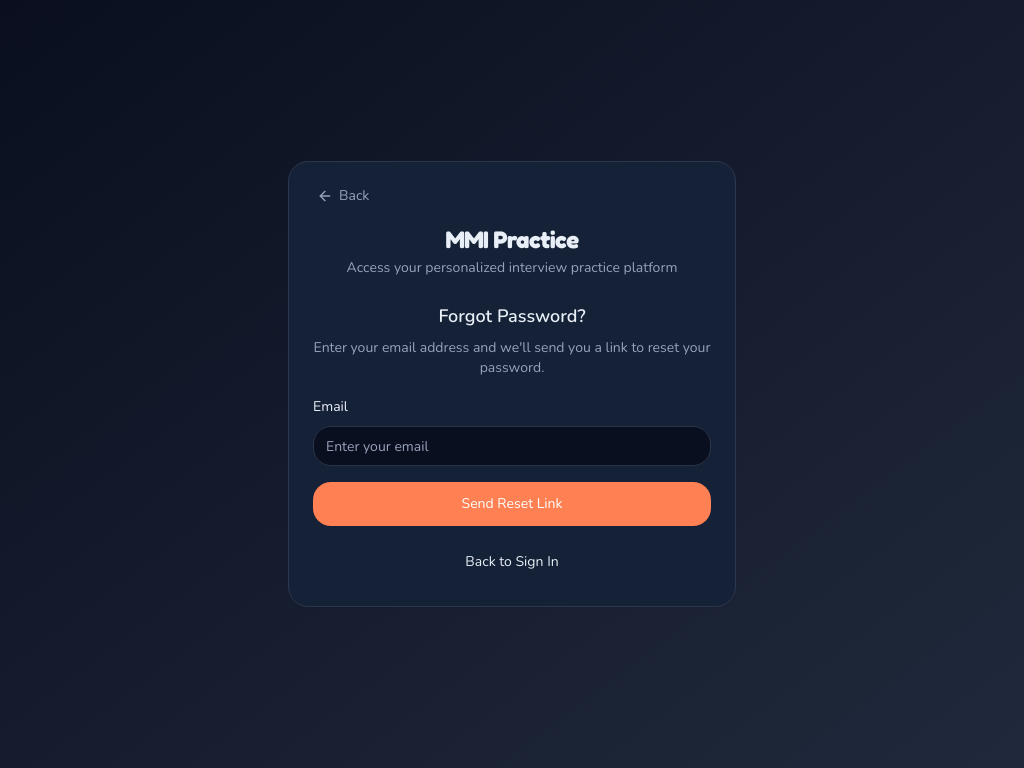
Scenario: Forgot-password email form › shows a persistent, account-neutral confirmation only after acceptance
The width and height of the screenshot is (1024, 768).
Type "qa@example.test" into the field with id "reset-email" at (512, 446), box x1=313 y1=426 x2=711 y2=466
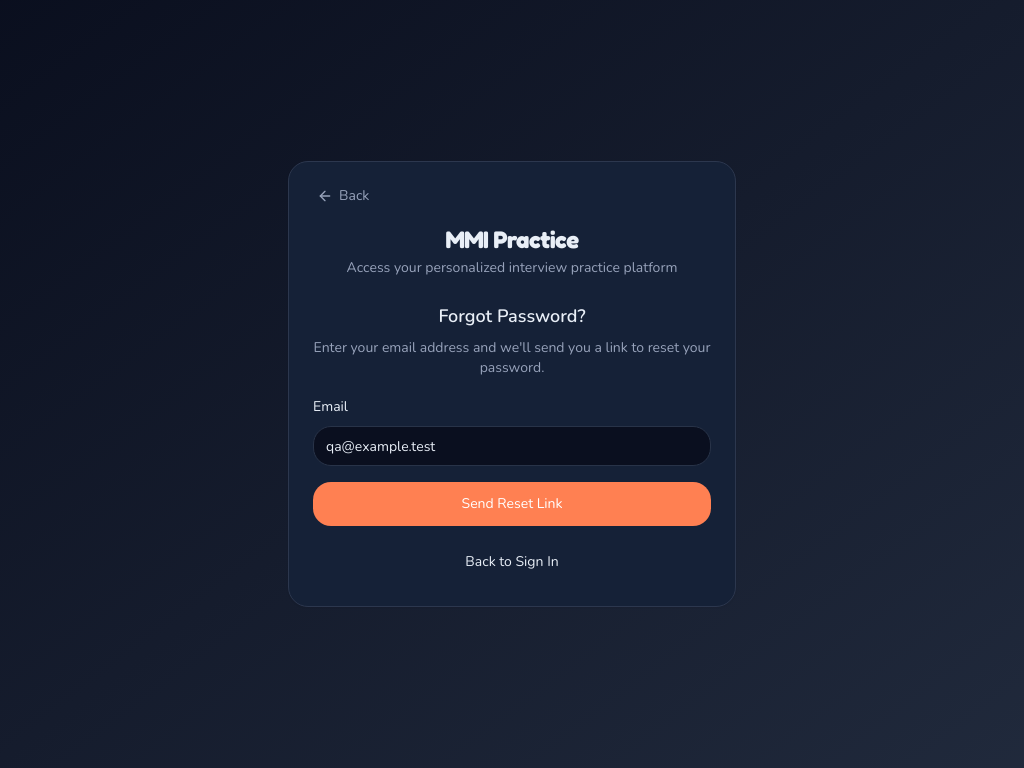
Submit the form, box x1=313 y1=394 x2=711 y2=526
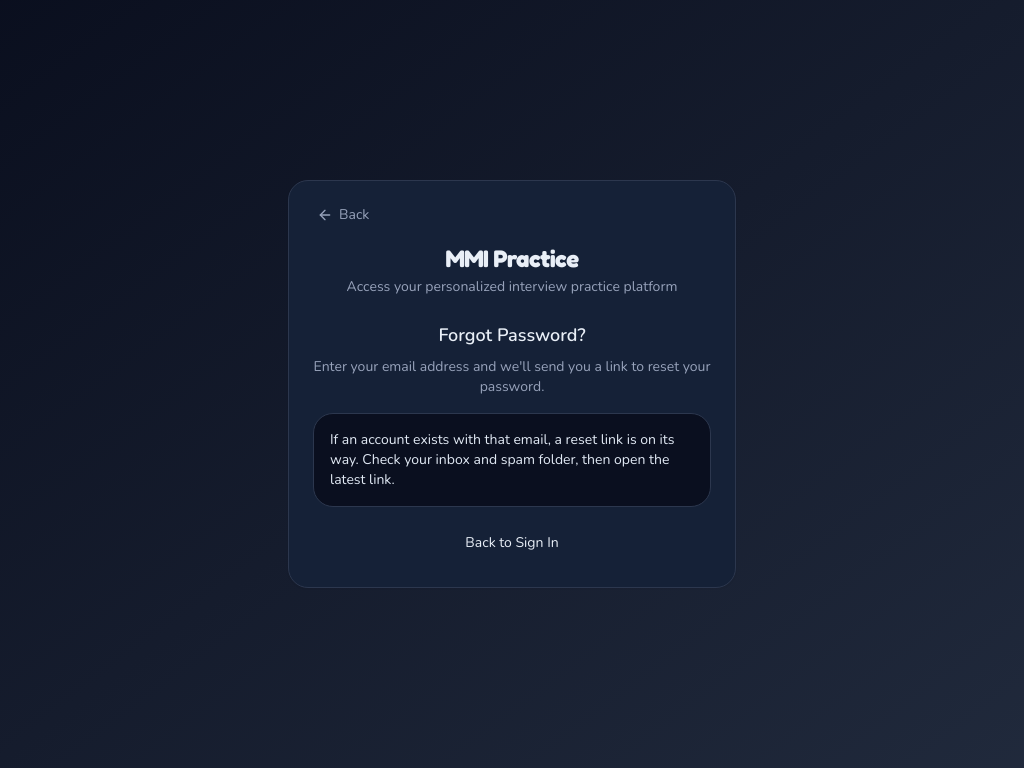
expect the text "If an account exists with that email" is shown: met, box x1=330 y1=430 x2=674 y2=489
expect the text "open the latest link" is shown: met, box x1=330 y1=430 x2=674 y2=489
expect the form is gone: met
